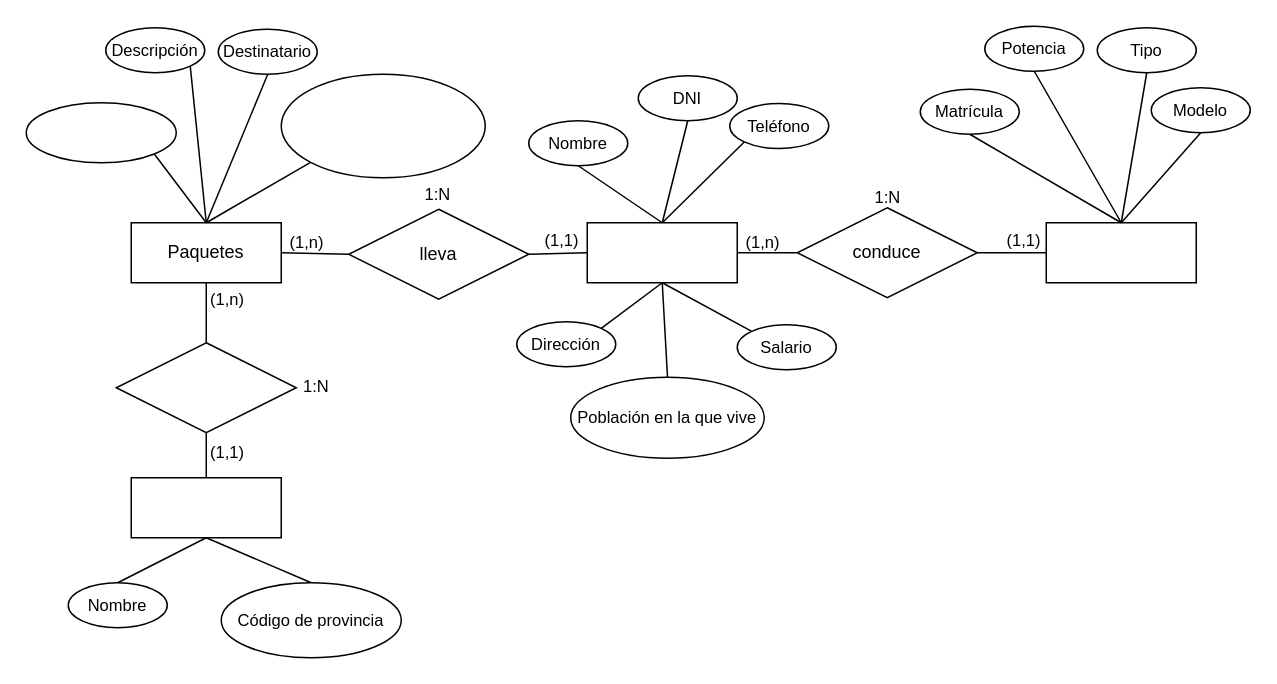
Image size: 1277x684. Some labels were removed from this diagram. The box of each missing label's shape, as (x1, y1, x2, y2) in pixels:
Camioneros: (586, 221, 737, 283)
Camiones: (1045, 221, 1196, 283)
Código de paquete: (25, 101, 176, 163)
Dirección del destinatario: (280, 73, 485, 178)
entrega: (115, 341, 296, 433)
Provincia: (130, 476, 281, 538)
